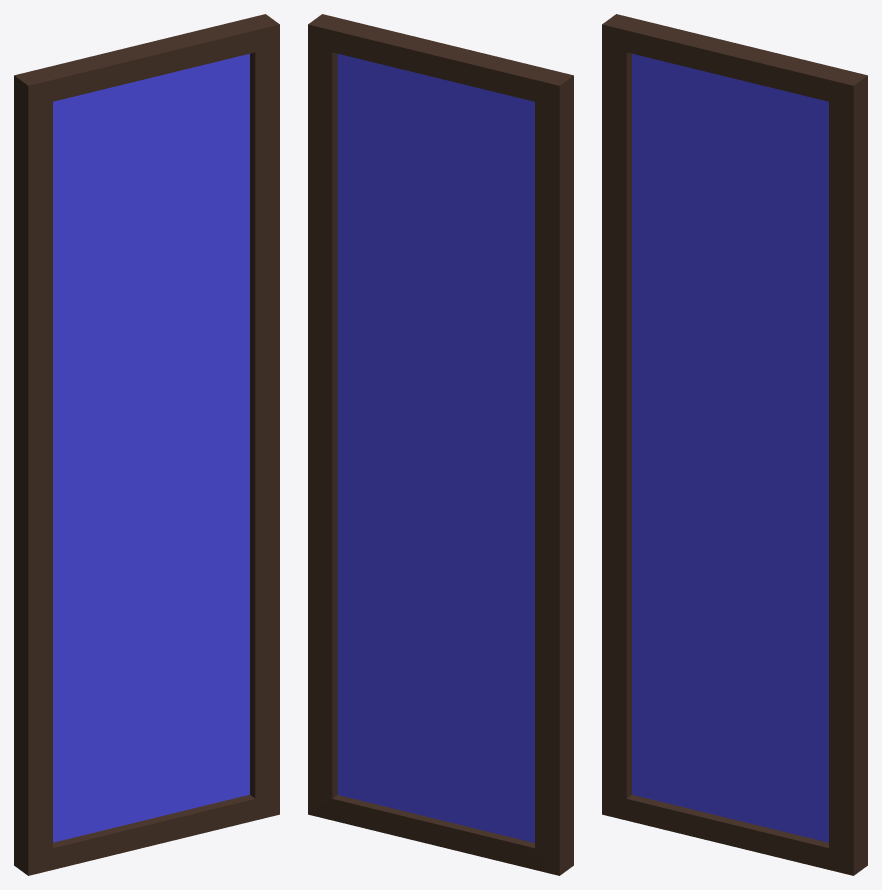
The model's file is window_small.fbx.
3 views of the same model, side by side, from view 1: azimuth 30°, elevation 25°; view 2: azimuth 150°, elevation 25°; view 3: azimuth 330°, elevation 25° (orthographic).
Parts seen in each view (by area): view 1: mesh_WindowSmall.001; view 2: mesh_WindowSmall.001; view 3: mesh_WindowSmall.001.
Part boxes in pixels (<box>): mesh_WindowSmall.001: <box>14,14,279,875</box>; mesh_WindowSmall.001: <box>308,14,573,875</box>; mesh_WindowSmall.001: <box>602,14,867,875</box>.
Bounding box in the file's own units: 100 × 300 × 10.
